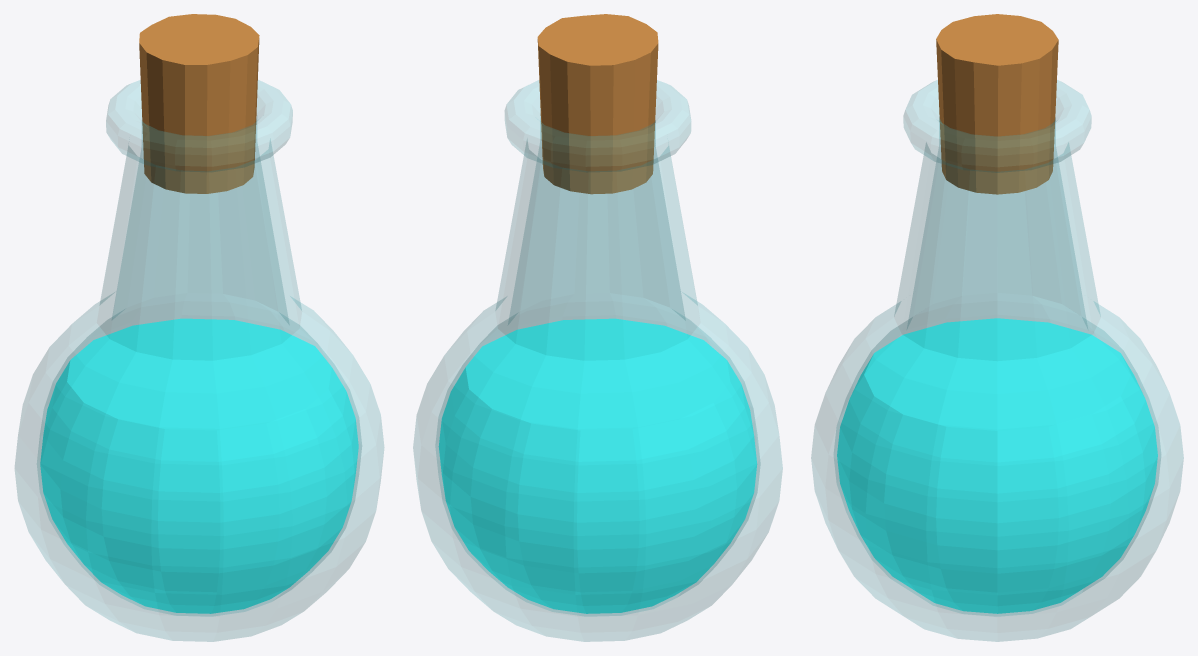
Rendered from potion_blue.glb.
The picture shows the model from 3 angles, left to right: view 1: azimuth 30°, elevation 25°; view 2: azimuth 150°, elevation 25°; view 3: azimuth 270°, elevation 25°; orthographic projection.
Parts seen in each view (by area): view 1: Potion; view 2: Potion; view 3: Potion.
Part boxes in pixels (x1,y1,x2,y2): Potion: (15,14,384,641); Potion: (413,14,782,641); Potion: (811,14,1183,641).
Bounding box in the file's own units: 0.638 × 1.06 × 0.638.
3 materials, 3 textured.
